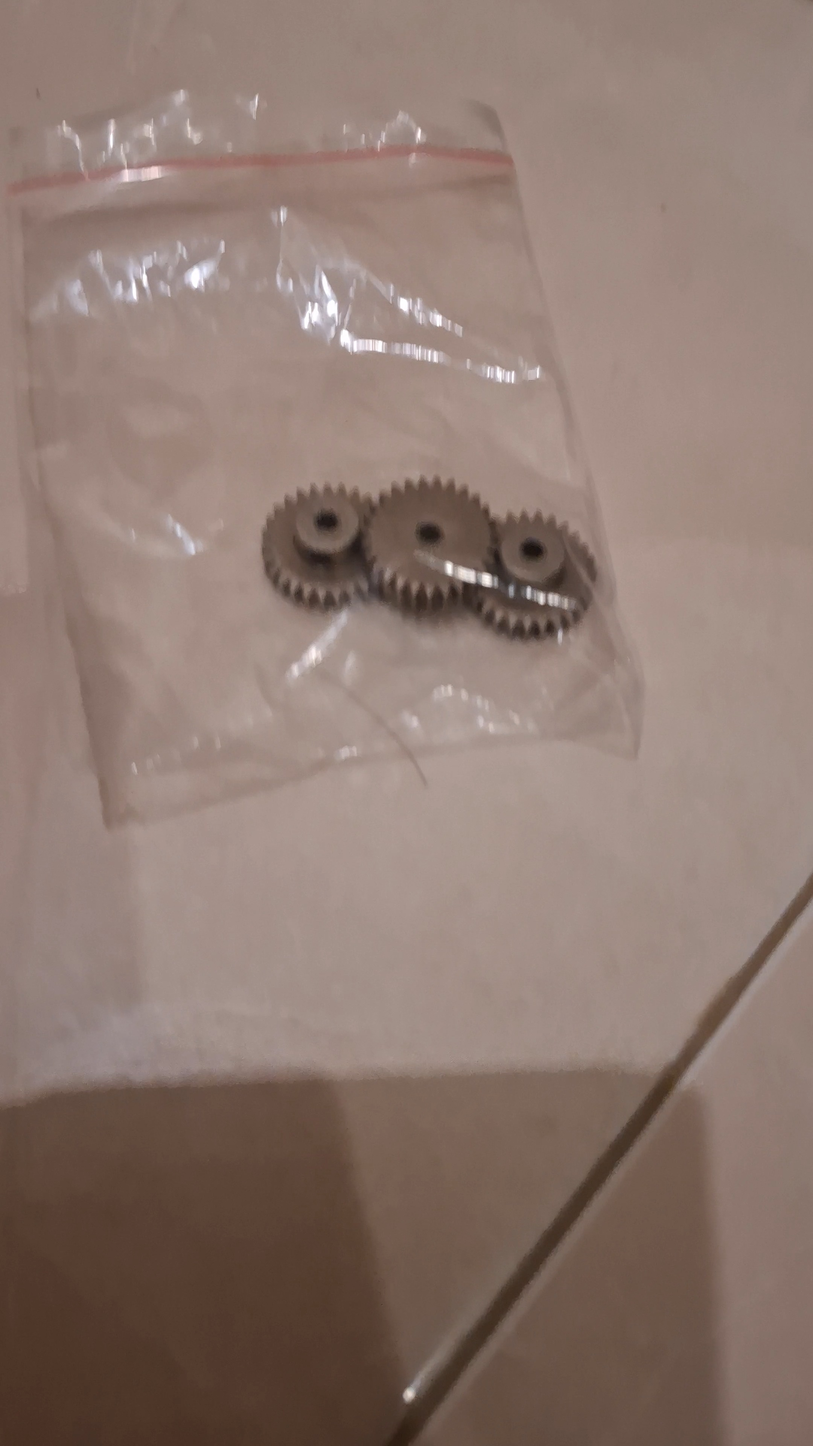spur gear: (364, 477, 493, 613), (472, 513, 596, 638), (262, 487, 370, 609)
